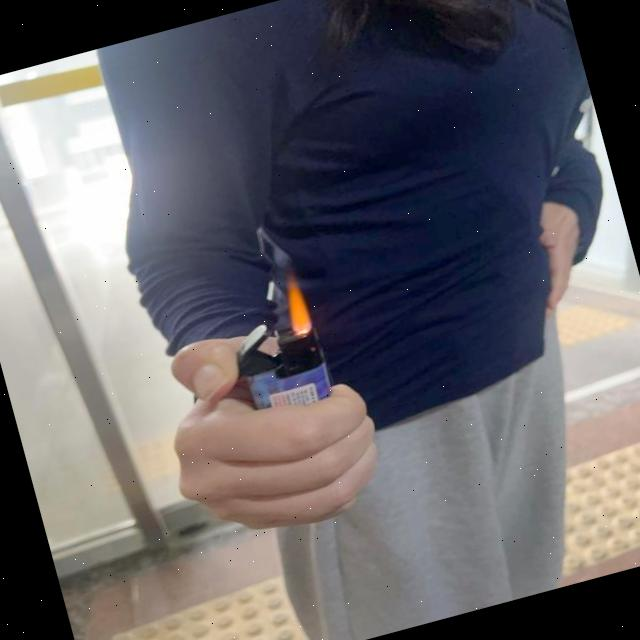fire: (278, 272, 318, 338)
